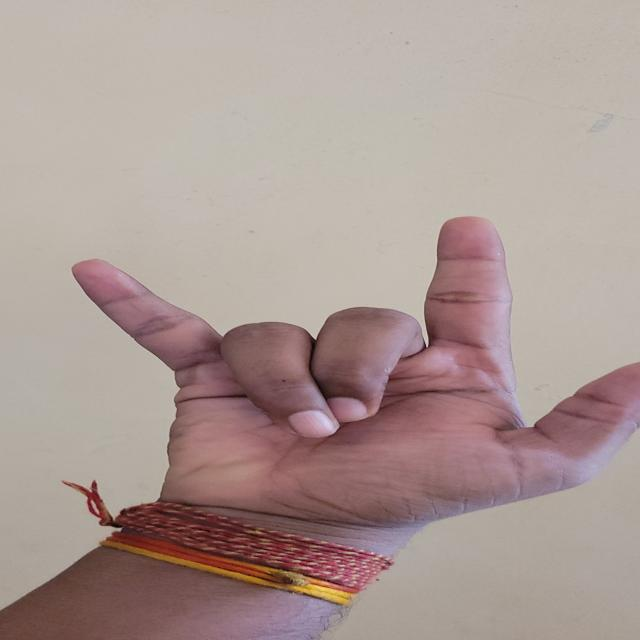i like you: (9, 174, 640, 585)
